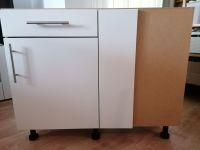cabinet_door: (13, 38, 98, 130), (2, 9, 98, 36)
handle: (8, 41, 21, 84), (26, 18, 74, 27)
